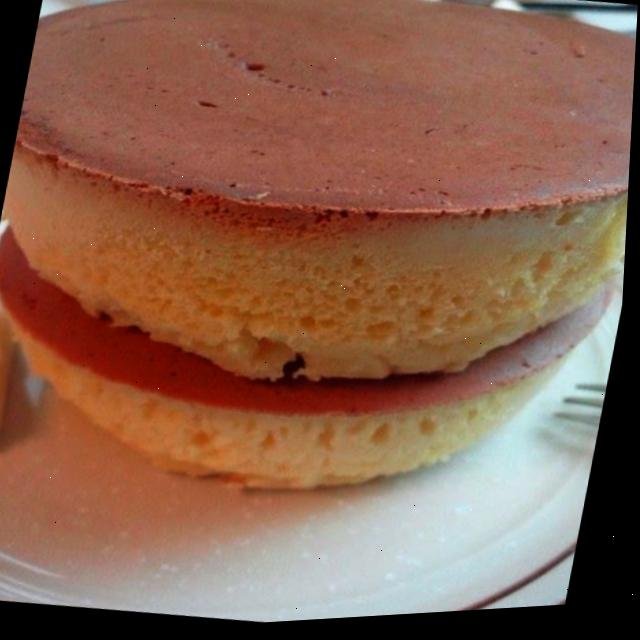汉堡快餐: (0, 69, 636, 540)
